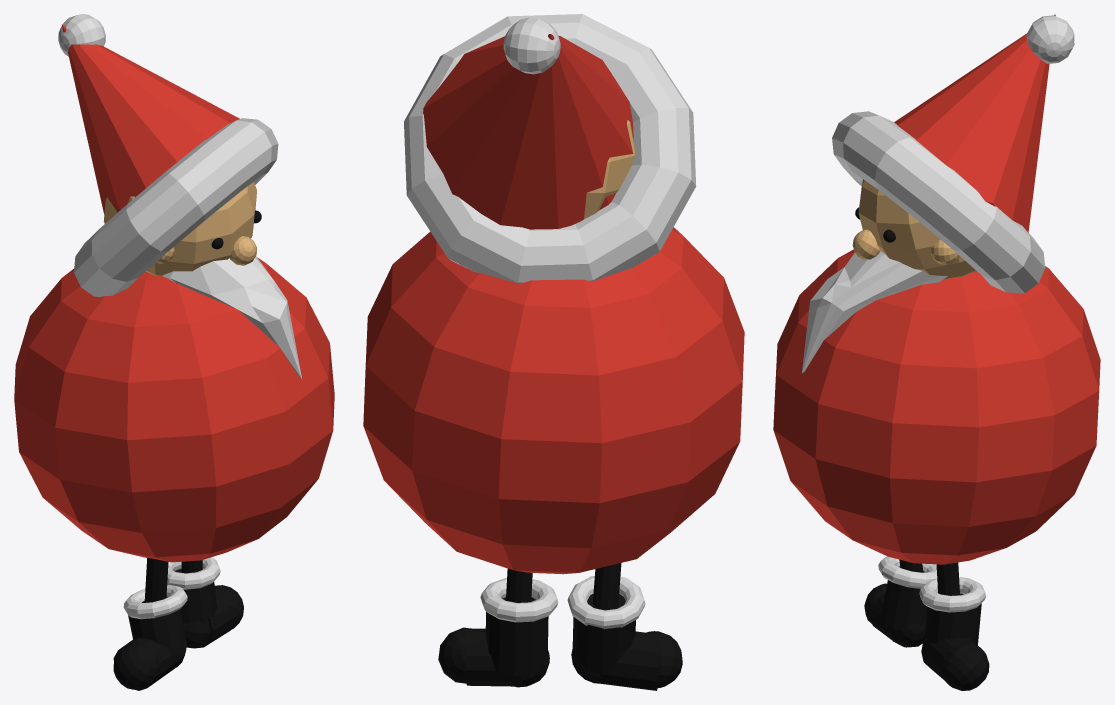
The picture shows the model from 3 angles, left to right: view 1: azimuth 30°, elevation 25°; view 2: azimuth 150°, elevation 25°; view 3: azimuth 270°, elevation 25°; orthographic projection. The views are drawn at different scales.
Visible parts, largest first — view 1: node_MeshObject502904768-PolyPaper23; view 2: node_MeshObject502904768-PolyPaper23; view 3: node_MeshObject502904768-PolyPaper23.
Part boxes in pixels (bbox=[...]): node_MeshObject502904768-PolyPaper23: bbox=[14, 14, 334, 690]; node_MeshObject502904768-PolyPaper23: bbox=[363, 14, 744, 690]; node_MeshObject502904768-PolyPaper23: bbox=[773, 14, 1100, 690].
Size of the model in its own units: 0.7339 by 1.54 by 0.7312.
